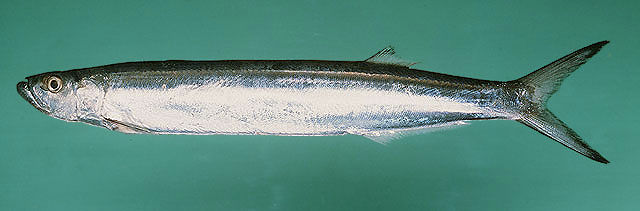fish: (17, 39, 613, 163)
